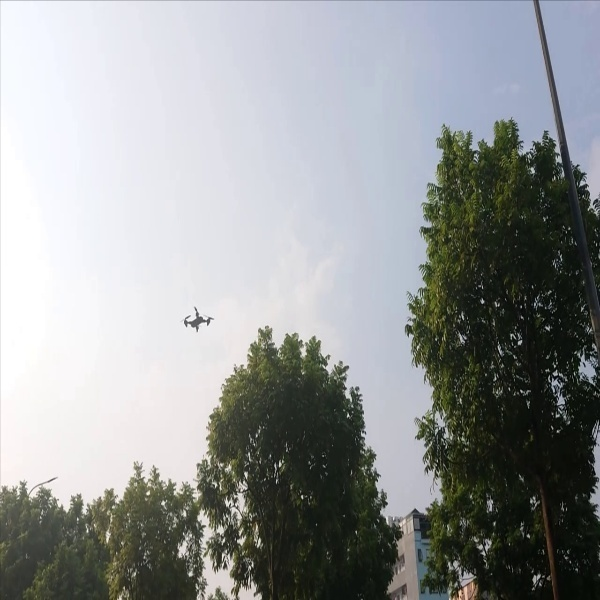drone: (181, 297, 218, 338)
